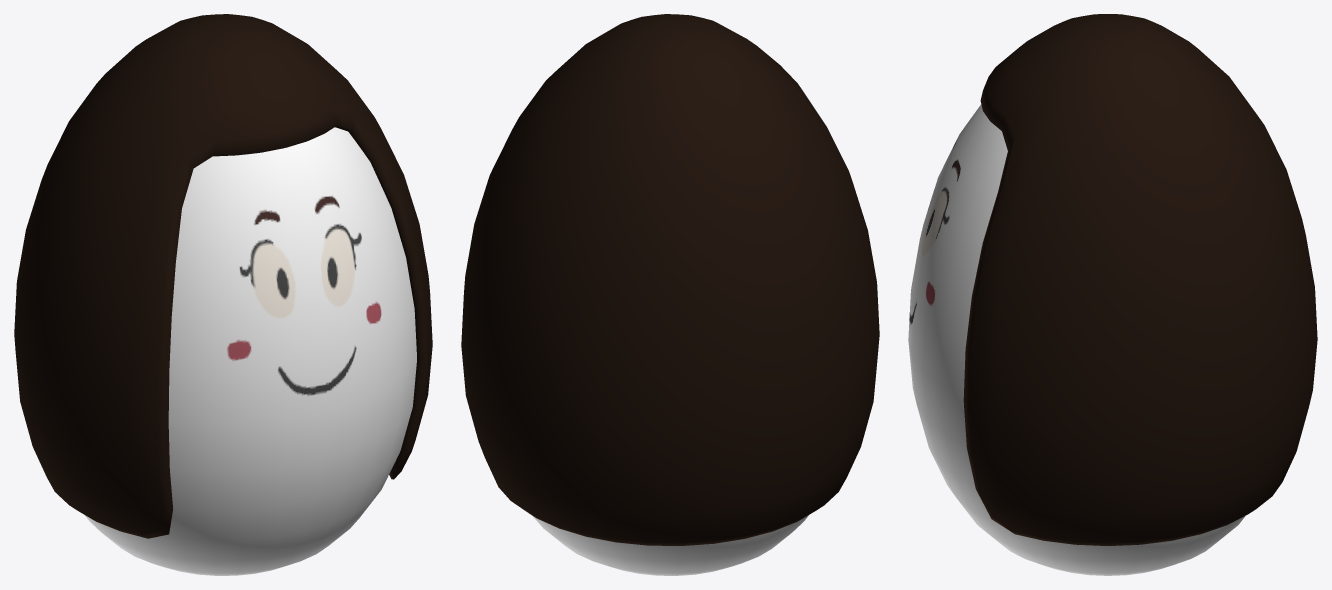
Rendered from jajko1.FBX.
3 views of the same model, side by side, from view 1: azimuth 30°, elevation 25°; view 2: azimuth 150°, elevation 25°; view 3: azimuth 270°, elevation 25° (orthographic).
Parts seen in each view (by area): view 1: body_high, hair001_high; view 2: hair001_high, body_high; view 3: hair001_high, body_high.
Part boxes in pixels (x1,y1,x2,y2): body_high: [85, 127, 416, 575]; hair001_high: [14, 14, 432, 538]; hair001_high: [461, 14, 879, 545]; body_high: [532, 515, 808, 575]; hair001_high: [963, 14, 1317, 545]; body_high: [908, 104, 1245, 575].
Size of the model in its own units: 99.95 by 138 by 97.55.
